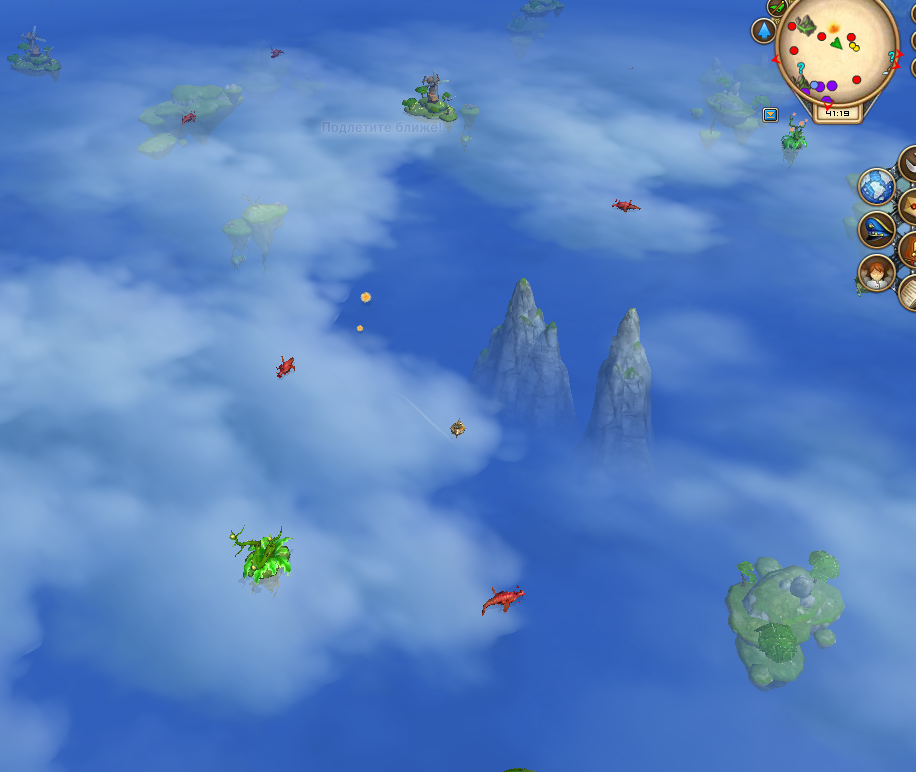dandelion-empty: (228, 518, 295, 598)
dandelion-full: (780, 110, 810, 167)
fluff: (356, 287, 375, 309), (352, 320, 366, 335)
